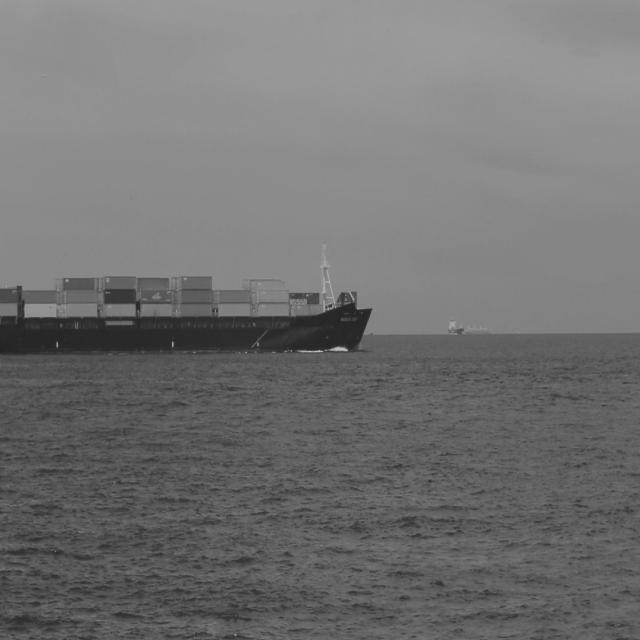ship: (0, 242, 378, 353), (442, 315, 462, 335)
